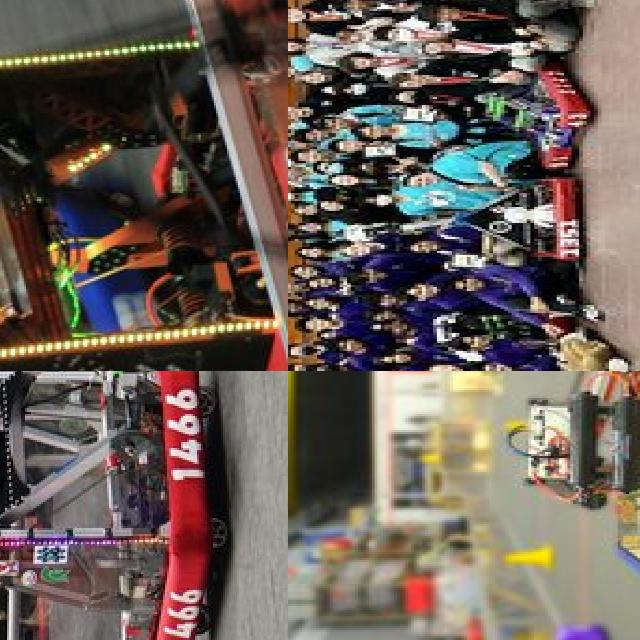FRC-Robots: (0, 0, 288, 371), (0, 371, 243, 640), (496, 371, 640, 593), (477, 166, 591, 257), (492, 72, 610, 152)
